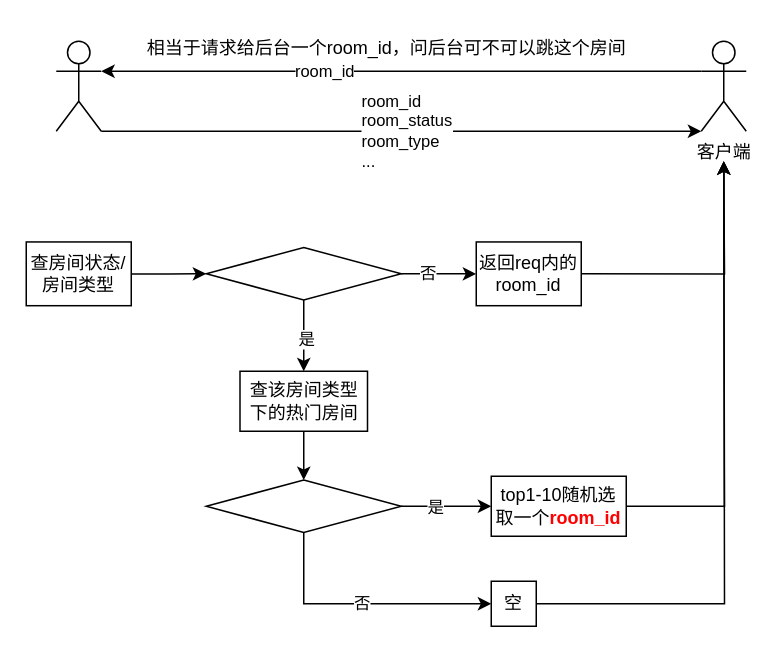
Some shapes in this 777 by 653 pixel diagram are drawn without their labels. The centre of each missing label's shape, as x and y in pixels:
"后台" goes at [78,85].
"是否有热门房" goes at [303,505].
"是否解散/没有人在房" goes at [303,273].
